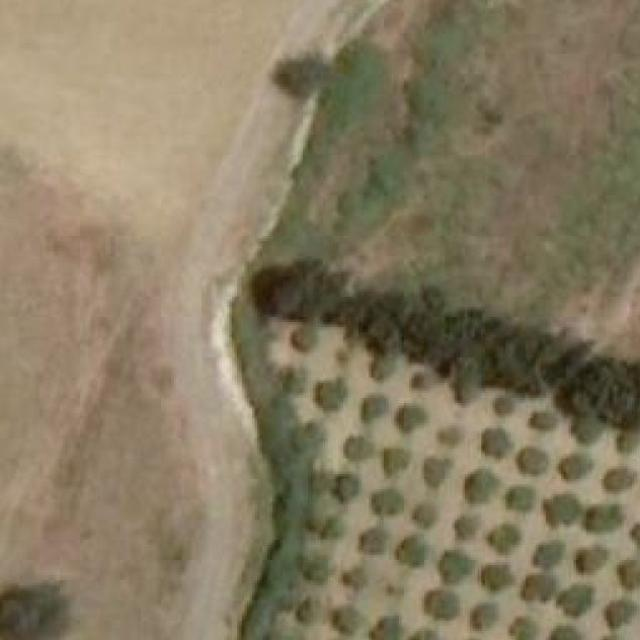Tree: (0, 577, 67, 640), (273, 54, 332, 97), (559, 583, 594, 617), (583, 504, 622, 533), (293, 421, 325, 456), (465, 469, 498, 502), (544, 494, 579, 525), (308, 509, 342, 540), (574, 543, 608, 573), (524, 572, 557, 601), (605, 597, 638, 626), (296, 592, 325, 625), (422, 457, 453, 487), (442, 550, 473, 580), (480, 562, 513, 590), (518, 445, 549, 474), (569, 415, 600, 444), (424, 590, 458, 616), (556, 454, 591, 479), (480, 428, 510, 457), (316, 380, 346, 408), (396, 535, 424, 565), (605, 467, 638, 492), (470, 600, 498, 629), (372, 489, 405, 513), (533, 537, 561, 565), (333, 606, 359, 636), (371, 615, 402, 640), (306, 552, 330, 584), (282, 364, 308, 393), (490, 524, 516, 553), (508, 615, 538, 640), (618, 557, 640, 591), (333, 474, 359, 502), (528, 411, 556, 437), (384, 445, 409, 474), (358, 528, 387, 553), (503, 487, 534, 510), (399, 406, 427, 431), (363, 393, 387, 418), (348, 436, 372, 460), (293, 327, 318, 350), (493, 393, 517, 416), (453, 514, 476, 538), (543, 626, 581, 640), (414, 502, 435, 526), (616, 431, 640, 451), (412, 370, 438, 388), (341, 565, 367, 583), (372, 357, 392, 378), (437, 428, 463, 444), (632, 516, 640, 545)
